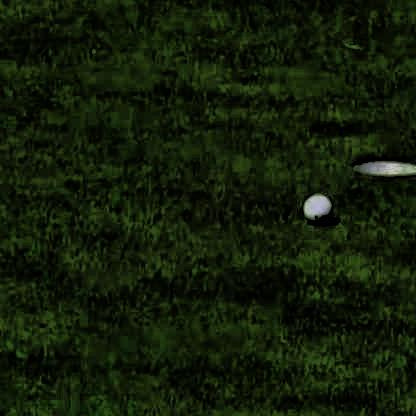golfball: (297, 192, 330, 223)
